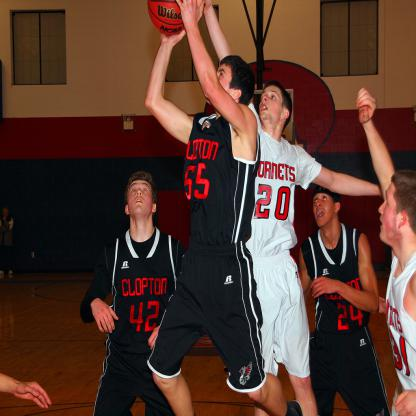Ball: (145, 0, 192, 38)
